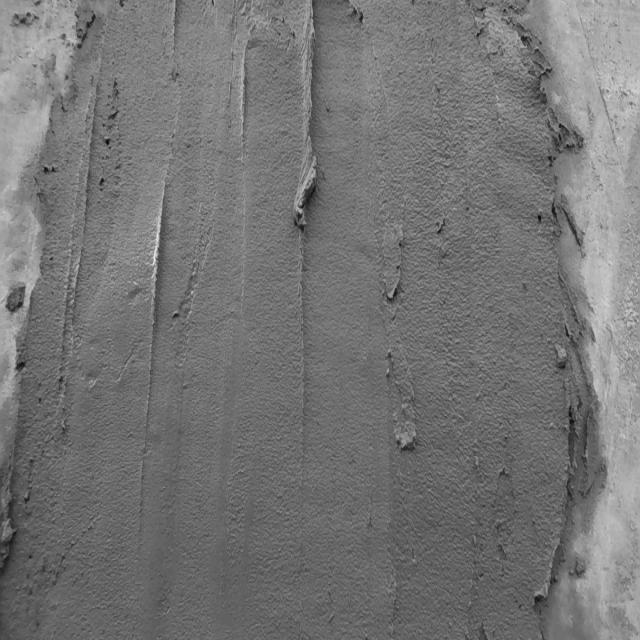trowels marks: (137, 0, 184, 542), (290, 0, 322, 475), (60, 109, 100, 414), (235, 32, 253, 161)
